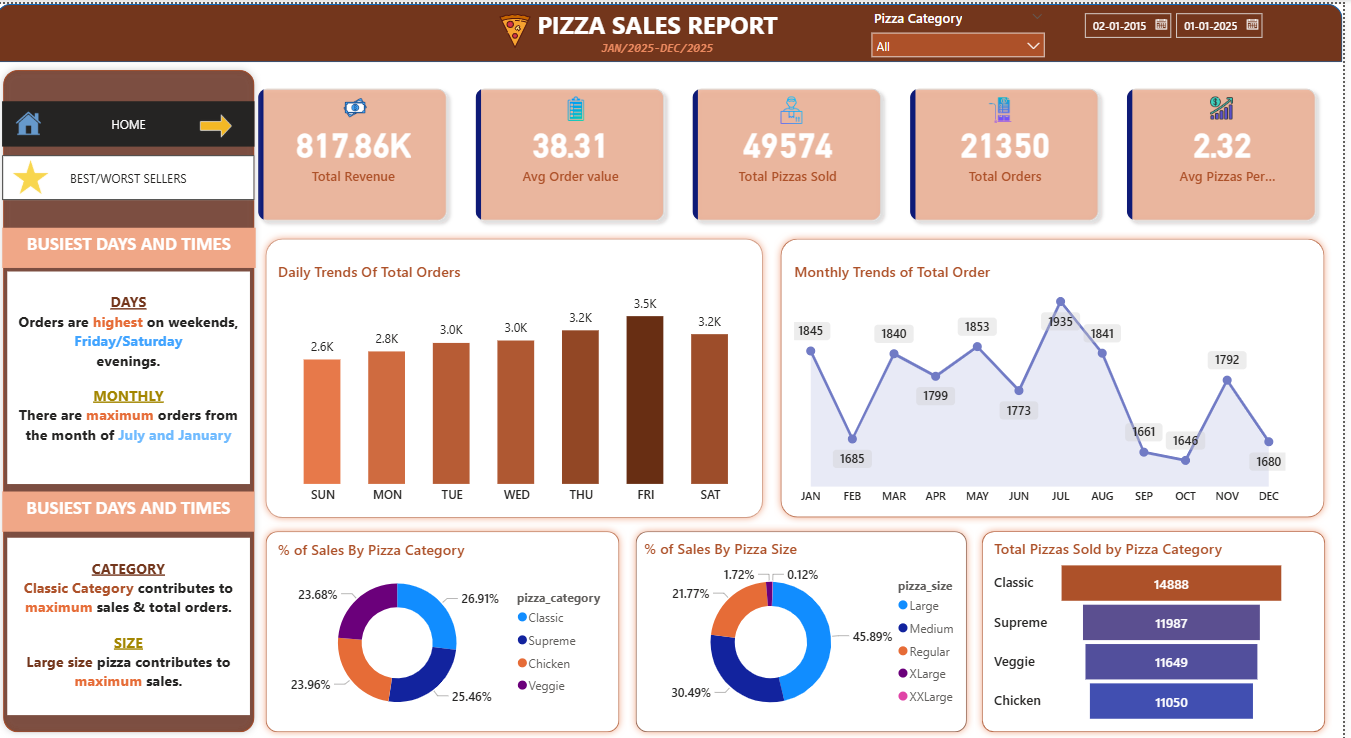

The dashboard page shown, as its layout file describes it:
{"tool":"powerbi","page":{"name":"HOME","canvas":[1500,820],"ordinal":0},"visuals":[{"type":"cardVisual","fields":{"Data":["pizza_sales.Total Revenue","pizza_sales.Avg Order value","pizza_sales.Total Pizzas Sold","pizza_sales.Total Orders","pizza_sales.Avg Pizzas Per Order"]},"box":[262.9,65.7,1237.1,205.7],"z":0},{"type":"shape","box":[0,65,296,754],"z":1000},{"type":"image","box":[380.7,103.6,40,25],"z":2000},{"type":"image","box":[630.7,102.9,30,27.1],"z":3000},{"type":"image","box":[865.7,102.9,40,30.7],"z":4000},{"type":"image","box":[1090,102.9,57.1,30],"z":5000},{"type":"image","box":[1340,102.9,51.4,25.7],"z":6000},{"type":"shape","box":[0,0,1500,65],"z":7000},{"type":"textbox","box":[578.8,0,315,46.2],"z":8000},{"type":"textbox","box":[650.8,34.2,172.5,30.8],"z":9000},{"type":"image","box":[557.5,11.2,42.5,38.8],"z":10000},{"type":"shape","box":[292.9,252.9,570,327.1],"z":11000},{"type":"clusteredColumnChart","title":"Daily Trends Of Total Orders","fields":{"Category":["pizza_sales.Order Day"],"Y":["pizza_sales.Total Orders"]},"box":[308.8,286.2,542.5,280],"z":12000},{"type":"shape","box":[866.7,253.3,621.7,326.7],"z":13000},{"type":"areaChart","title":"Monthly Trends of Total Order","fields":{"Category":["pizza_sales.Order Month"],"Y":["pizza_sales.Total Orders"]},"box":[885,286.2,557.5,280],"z":14000},{"type":"shape","box":[292.9,580,410,240],"z":15000},{"type":"shape","box":[705,580,385,240],"z":16000},{"type":"shape","box":[1090,580,398.3,240],"z":17000},{"type":"donutChart","title":"% of Sales By Pizza Category","fields":{"Category":["pizza_sales.pizza_category"],"Y":["pizza_sales.Total Revenue"]},"box":[308.8,596.2,385,210],"z":18000},{"type":"donutChart","title":"% of Sales By Pizza Size","fields":{"Y":["pizza_sales.Total Revenue"],"Category":["pizza_sales.pizza_size"]},"box":[717.5,595,372.5,211.2],"z":19000},{"type":"funnel","title":"Total Pizzas Sold by Pizza Category","fields":{"Category":["pizza_sales.pizza_category"],"Y":["pizza_sales.Total Pizzas Sold"]},"box":[1107.5,595,335,211.2],"z":20000},{"type":"textbox","box":[7,249,282,45],"z":21000},{"type":"textbox","box":[12.9,298.6,270,236.4],"z":22000},{"type":"textbox","box":[7,543,281,45],"z":23000},{"type":"textbox","box":[12.9,595,270,197.9],"z":24000},{"type":"slicer","fields":{"Values":["pizza_sales.pizza_category"]},"box":[964.4,0,213.3,65.6],"z":25000},{"type":"slicer","fields":{"Values":["pizza_sales.order_date"]},"box":[1200,0,243.3,65.6],"z":26000},{"type":"pageNavigator","box":[7,108.6,281.3,50.1],"z":27000},{"type":"pageNavigator","box":[7,168.5,281.3,50.1],"z":27001},{"type":"image","box":[227,103.1,36.2,65.5],"z":27002},{"type":"image","box":[12.5,93.3,47.4,79.4],"z":27003},{"type":"image","box":[0,172.7,76.6,40.4],"z":27004}]}

Visuals, with their boxes in screenshot pixels (x1, y1, x2, y2), scaled from the page's 1500x820 canvas onto the 1351x738 screenshot:
cardVisual - pizza_sales.Total Revenue x pizza_sales.Avg Order value: 237/59/1350/244
shape: 0/58/267/737
image: 343/93/379/116
image: 568/93/595/117
image: 780/93/816/120
image: 982/93/1033/120
image: 1207/93/1253/116
shape: 0/0/1350/58
textbox: 521/0/805/42
textbox: 586/31/742/58
image: 502/10/540/45
shape: 264/228/777/522
"Daily Trends Of Total Orders" clusteredColumnChart: 278/258/767/510
shape: 781/228/1341/522
"Monthly Trends of Total Order" areaChart: 797/258/1299/510
shape: 264/522/633/737
shape: 635/522/982/737
shape: 982/522/1340/737
"% of Sales By Pizza Category" donutChart: 278/537/625/726
"% of Sales By Pizza Size" donutChart: 646/536/982/726
"Total Pizzas Sold by Pizza Category" funnel: 997/536/1299/726
textbox: 6/224/260/265
textbox: 12/269/255/482
textbox: 6/489/259/529
textbox: 12/536/255/714
slicer - pizza_sales.pizza_category: 869/0/1061/59
slicer - pizza_sales.order_date: 1081/0/1300/59
pageNavigator: 6/98/260/143
pageNavigator: 6/152/260/197
image: 204/93/237/152
image: 11/84/54/155
image: 0/155/69/192
